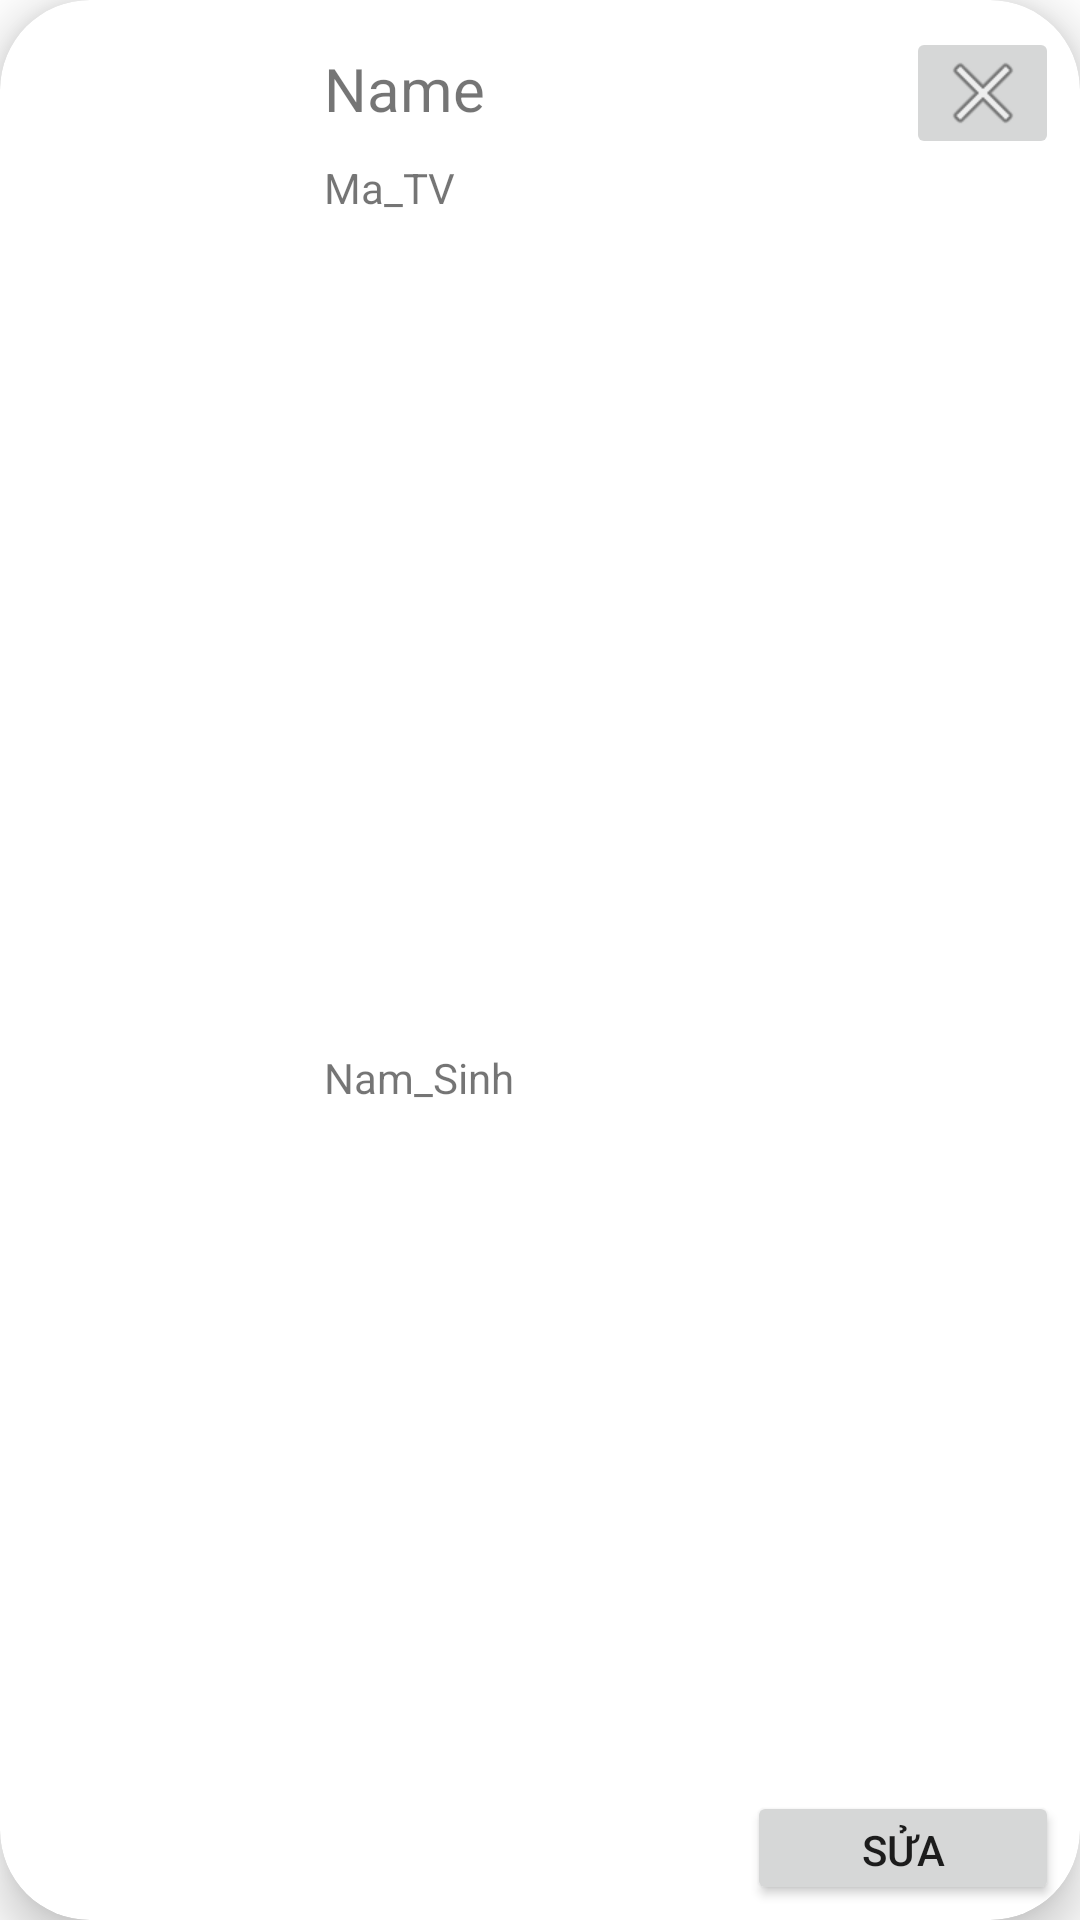

Screen size 1080x1920. Icon name, then its box in pixels as [x1, y1, x2, y2]:
close clear cancel: [918, 45, 1047, 141]
